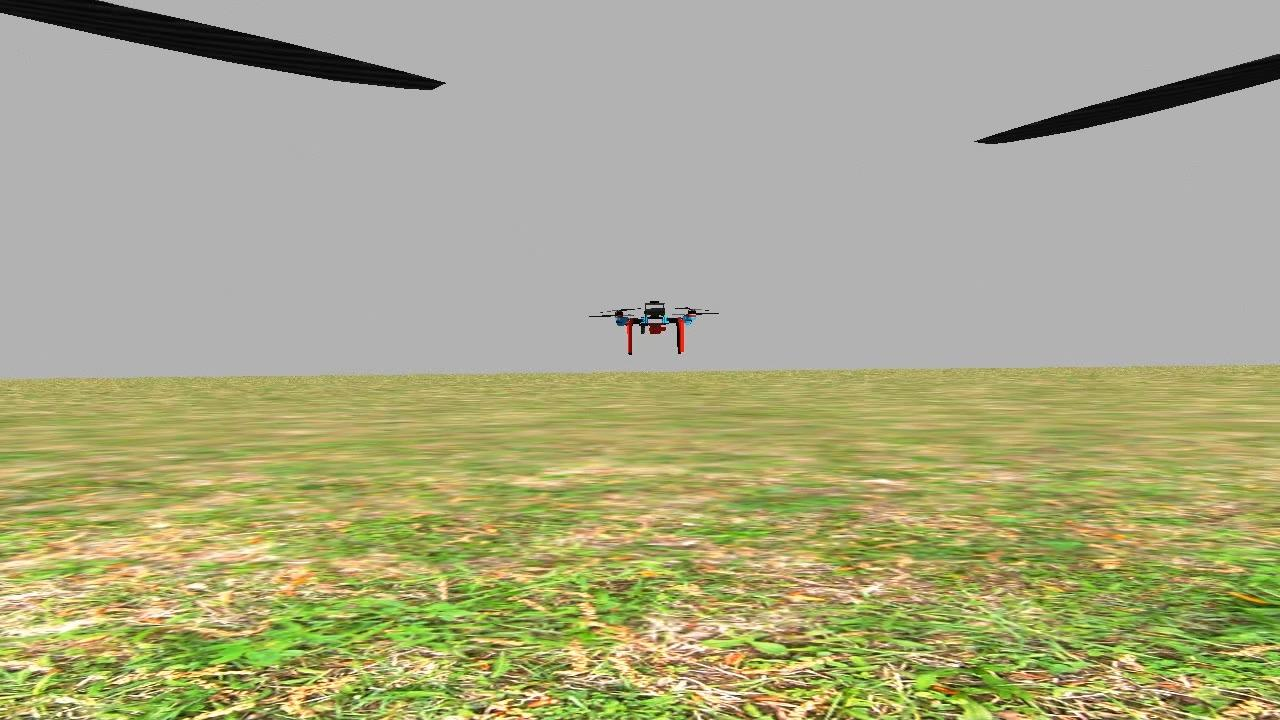UAV: (602, 298, 708, 364)
